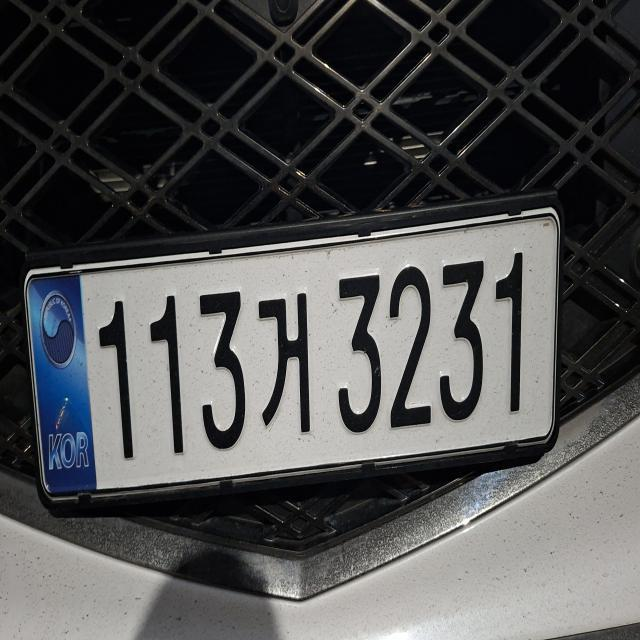car: (22, 170, 583, 532)
